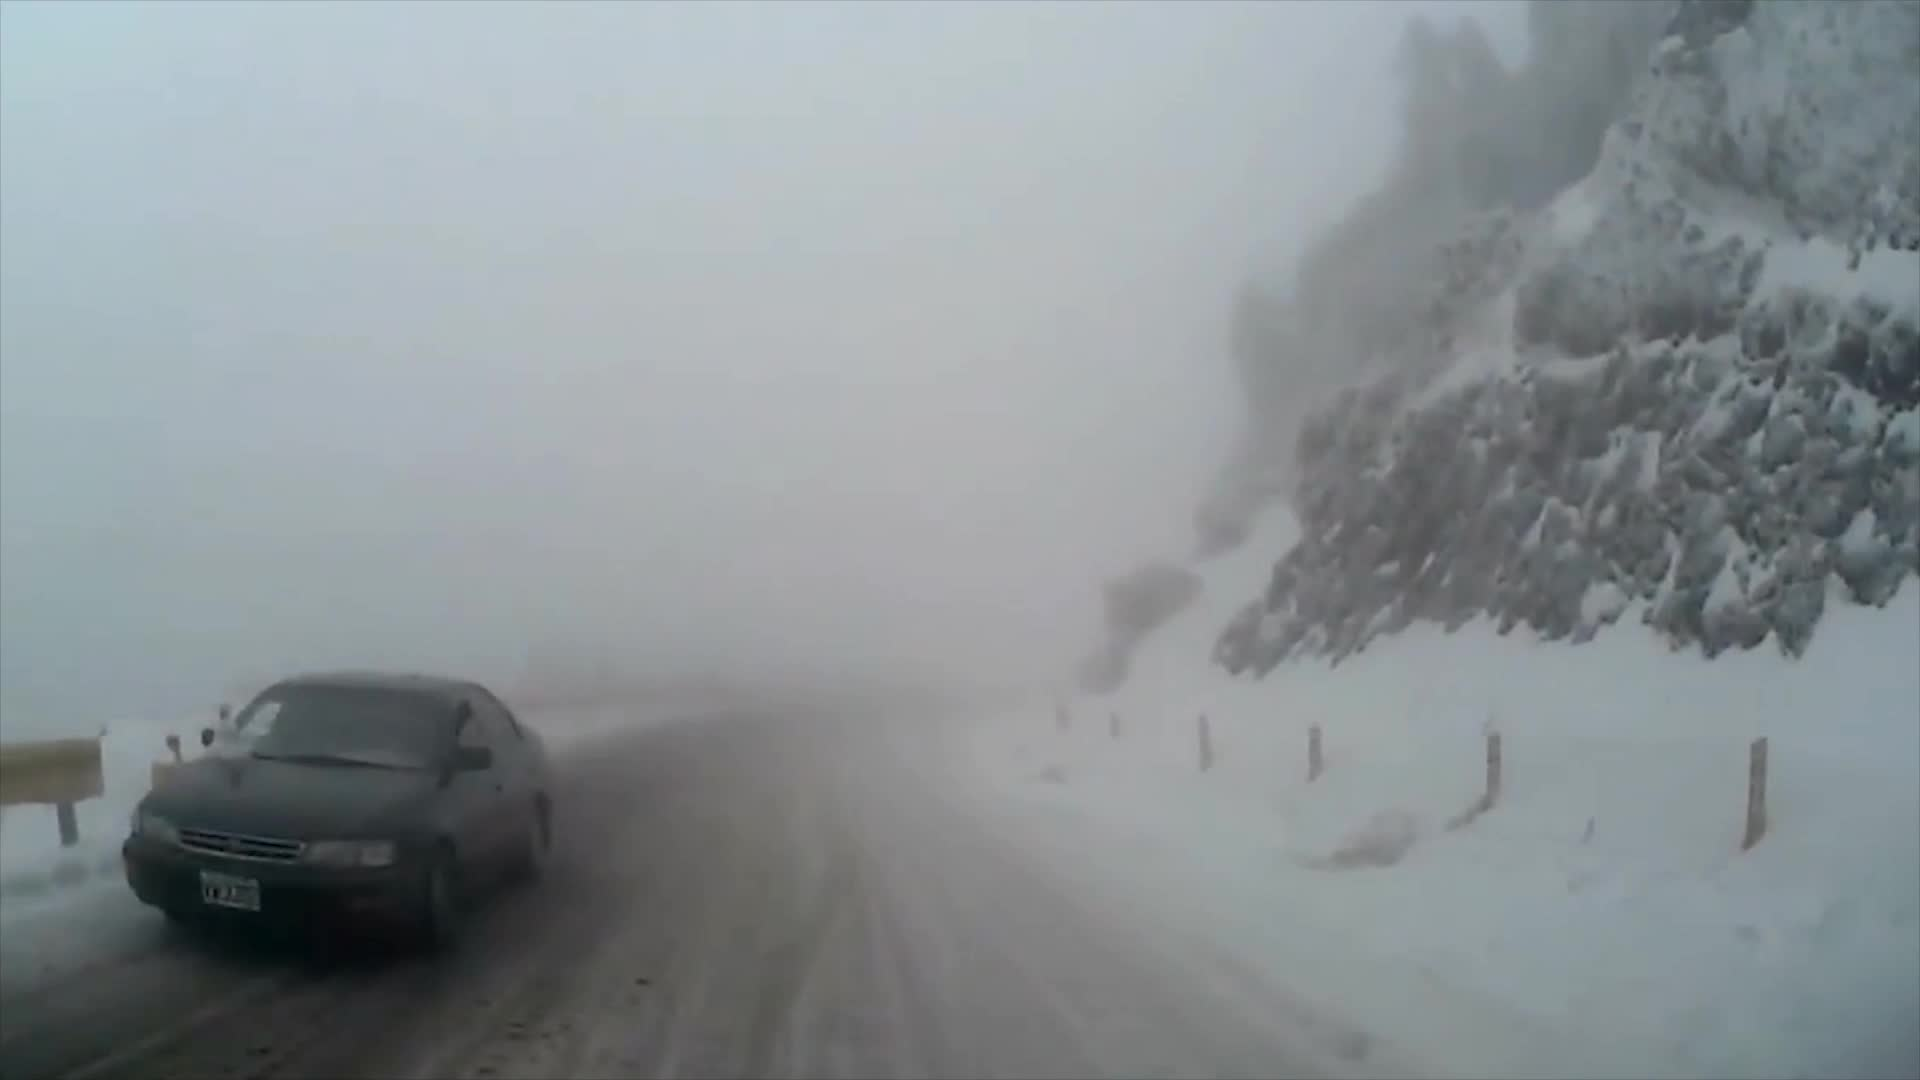vehicle: (119, 666, 555, 964)
